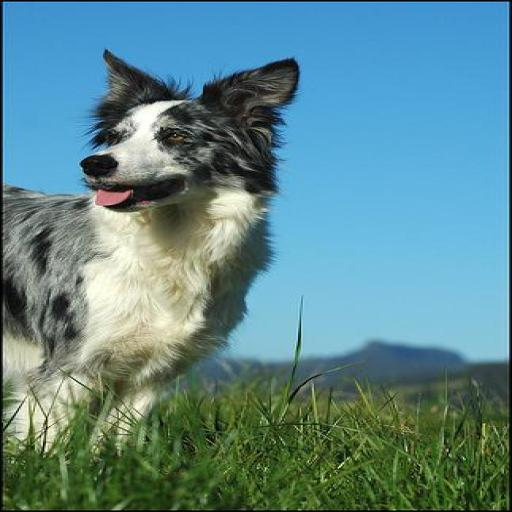dog_face: (80, 52, 315, 222)
